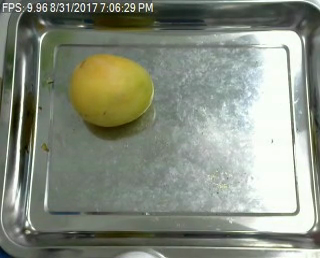Mango: (69, 53, 154, 129)
